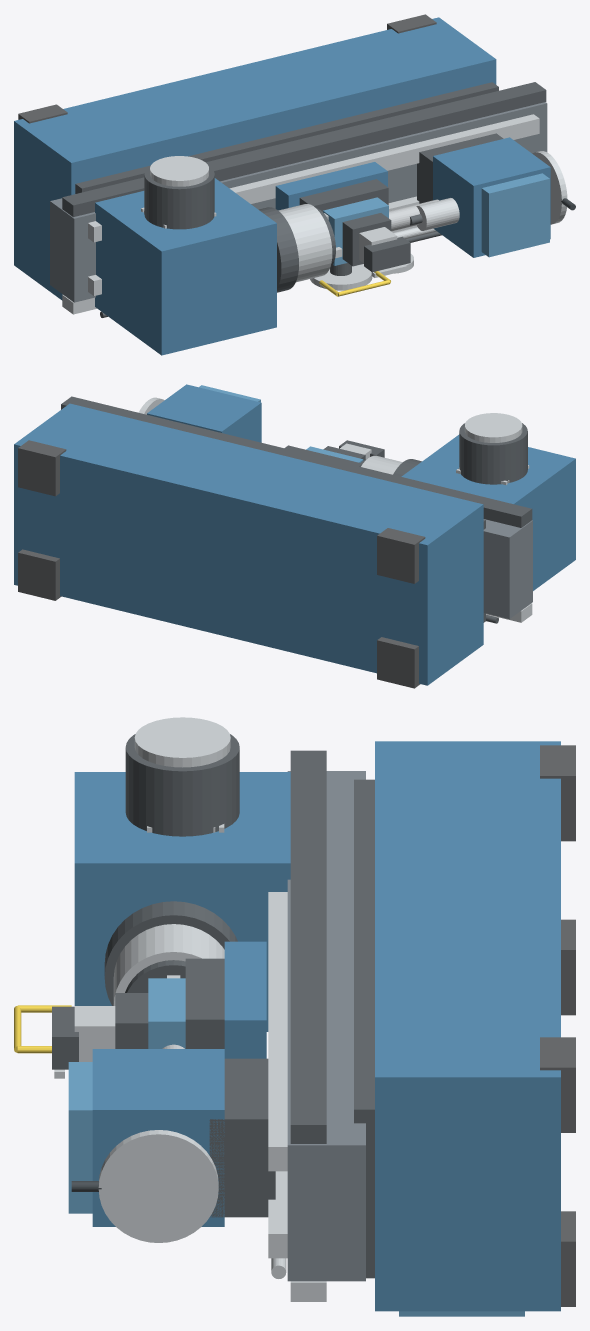
The model's file is torno_mecanico_interativo.glb.
The picture shows the model from 3 angles, top to bottom: view 1: azimuth 30°, elevation 25°; view 2: azimuth 150°, elevation 25°; view 3: azimuth 270°, elevation 25°; orthographic projection. The views are drawn at different scales.
Visible parts, largest first — view 1: BaseCabinet, Headstock, RearBedRail, BedCasting, TailstockBody, TailstockTop, BedWay_1, ChipTray, MotorBody, ChuckBody, CarriageSaddle, ChuckBackplate (+15 smaller); view 2: BaseCabinet, Headstock, BedCasting, RearBedRail, TailstockBody, MotorBody, Foot_-1.15_0.32, Foot_1.15_0.32, Foot_-1.15_-0.32, Foot_1.15_-0.32, MotorCap, ChuckBody; view 3: BaseCabinet, Headstock, BedCasting, RearBedRail, TailstockBody, TailstockHandwheel, ChipTray, TailstockBase, MotorBody, BedWay_1, CarriageSaddle, MotorCap (+16 smaller).
Boxes of the visible parts, box(x1,y1,x2,y2) form: BaseCabinet: box(14, 17, 496, 300); Headstock: box(95, 178, 276, 355); RearBedRail: box(62, 82, 546, 217); BedCasting: box(50, 102, 547, 302); TailstockBody: box(433, 137, 550, 257); TailstockTop: box(481, 173, 549, 257); BedWay_1: box(88, 114, 539, 242); ChipTray: box(75, 82, 498, 193); MotorBody: box(144, 166, 214, 229); ChuckBody: box(278, 204, 332, 282); CarriageSaddle: box(275, 162, 387, 210); ChuckBackplate: box(259, 207, 298, 292); BaseCabinet: box(14, 403, 483, 685); Headstock: box(401, 434, 575, 590); BedCasting: box(483, 519, 532, 618); RearBedRail: box(61, 396, 532, 527); TailstockBody: box(147, 384, 261, 442); MotorBody: box(459, 423, 527, 484); Foot_-1.15_0.32: box(377, 528, 425, 583); Foot_1.15_0.32: box(18, 440, 66, 496); Foot_-1.15_-0.32: box(377, 637, 420, 688); Foot_1.15_-0.32: box(18, 549, 61, 600); MotorCap: box(464, 413, 522, 442); ChuckBody: box(361, 455, 402, 474); BaseCabinet: box(375, 741, 560, 1311); Headstock: box(74, 772, 290, 1031); BedCasting: box(287, 771, 365, 1281); RearBedRail: box(290, 750, 326, 1143); TailstockBody: box(92, 1049, 224, 1226); TailstockHandwheel: box(98, 1130, 218, 1242); ChipTray: box(354, 779, 374, 1278); TailstockBase: box(209, 1058, 275, 1217); MotorBody: box(125, 734, 239, 836); BedWay_1: box(268, 892, 287, 1171); CarriageSaddle: box(224, 941, 266, 1058); MotorCap: box(134, 717, 230, 767).
Size of the model in its own units: 2.95 by 1.11 by 1.87.
